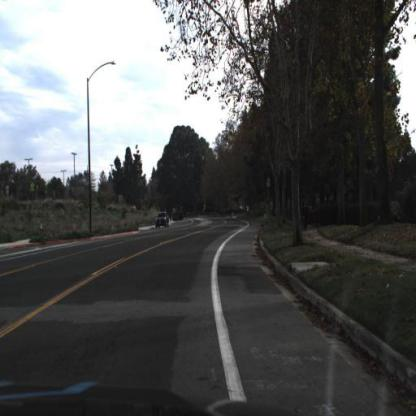car: (153, 208, 171, 231), (155, 210, 173, 233)
pedestrian: (301, 198, 312, 231)
